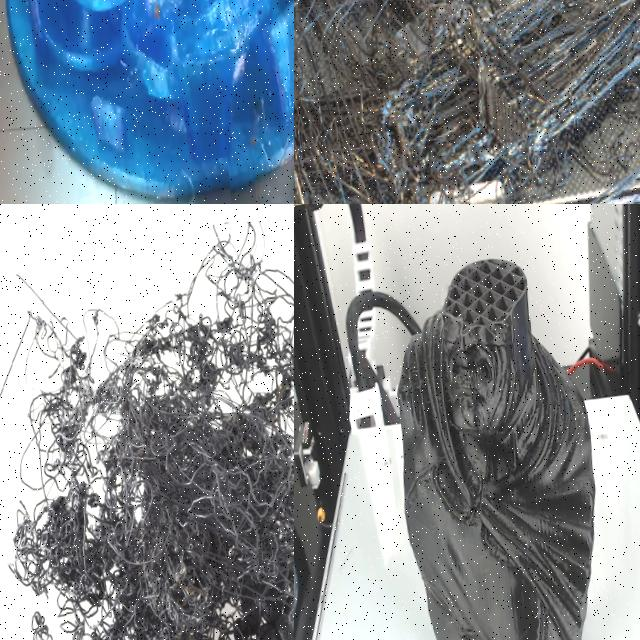spaghetti: (12, 221, 294, 640), (294, 0, 640, 204), (249, 118, 294, 204), (157, 156, 236, 204), (199, 0, 239, 51), (135, 0, 193, 33), (110, 50, 148, 100)
